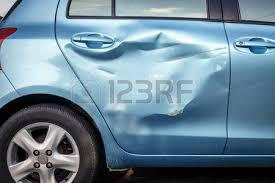doorouter-dent: (85, 17, 229, 147)
